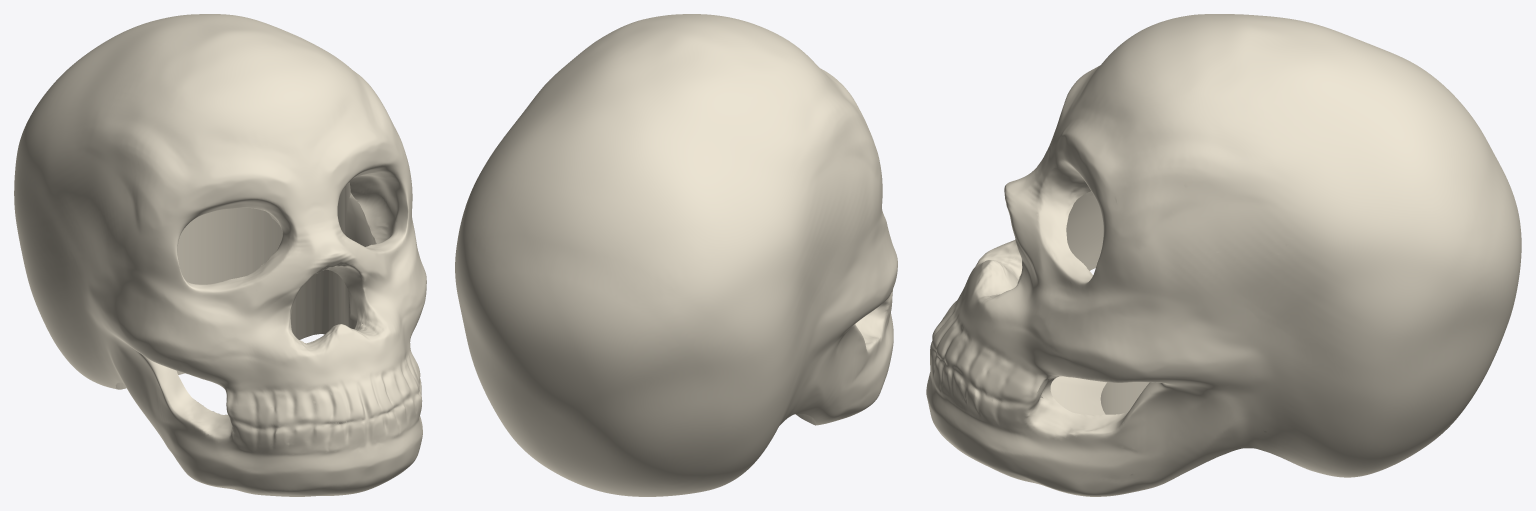
Rendered from skull-candle.glb.
3 renders of one model, left to right at view 1: azimuth 30°, elevation 25°; view 2: azimuth 150°, elevation 25°; view 3: azimuth 270°, elevation 25°, orthographic. The views are drawn at different scales.
Visible parts, largest first — view 1: SkullCandle; view 2: SkullCandle; view 3: SkullCandle.
Part boxes in pixels (x1,y1,x2,y2): SkullCandle: (14, 14, 426, 496); SkullCandle: (455, 14, 897, 496); SkullCandle: (926, 14, 1521, 496).
Bounding box in the file's own units: 0.0602 × 0.0755 × 0.0956.
